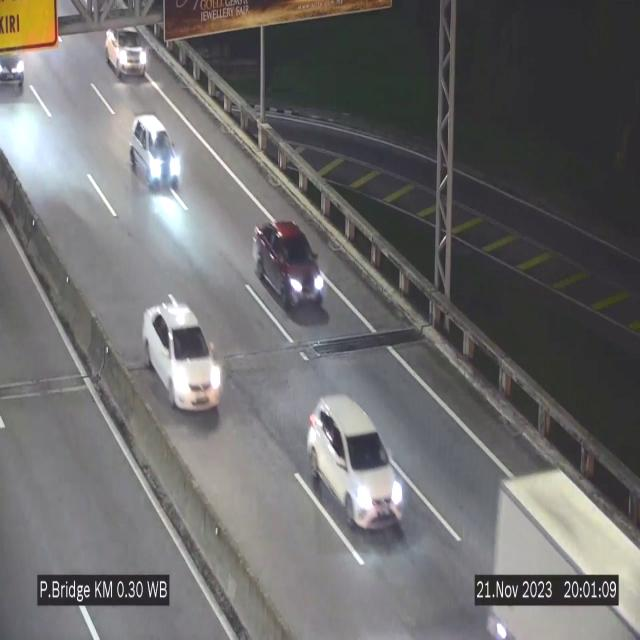Car: (307, 396, 405, 529), (142, 297, 223, 413), (254, 220, 326, 318), (130, 115, 182, 191), (99, 17, 149, 84)
